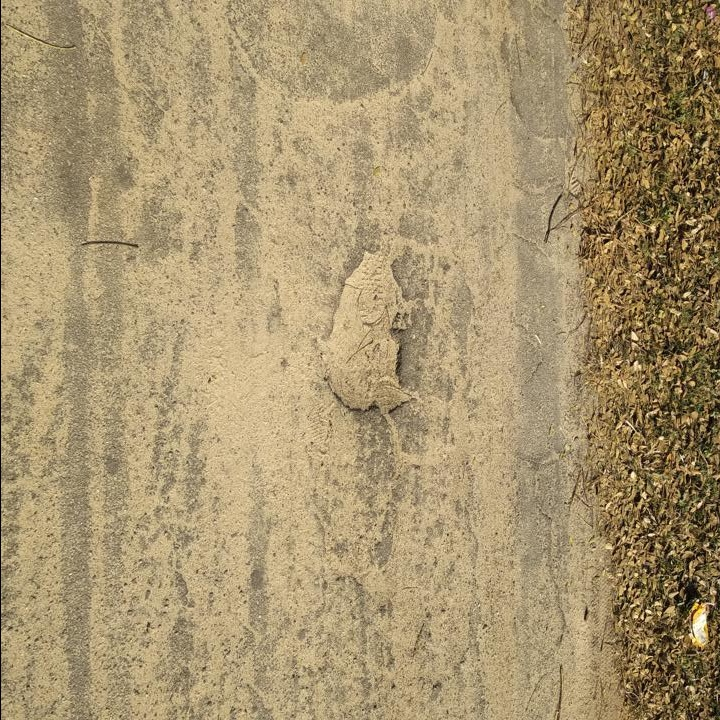pothole: (325, 244, 423, 422)
